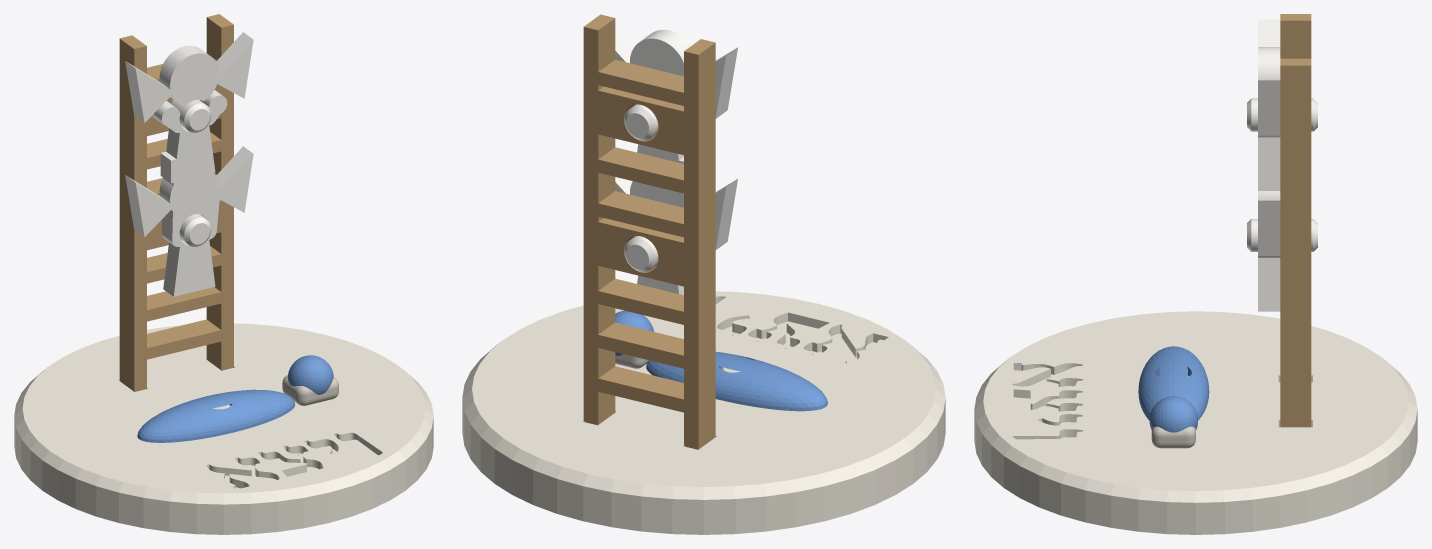
Rendered from vayetze.glb.
3 renders of one model, left to right at view 1: azimuth 30°, elevation 25°; view 2: azimuth 150°, elevation 25°; view 3: azimuth 270°, elevation 25°, orthographic. The views are drawn at different scales.
Visible parts, largest first — view 1: stage, ladder, angel-1, angel-2, yaakov, pin-2, stone, pin-1; view 2: stage, ladder, yaakov, angel-2, angel-1, pin-2, pin-1; view 3: stage, ladder, yaakov, angel-2, angel-1, stone, pin-2, pin-1.
Boxes of the visible parts, x1,y1,x2,y2 form: stage: (14, 323, 433, 534); ladder: (119, 14, 233, 391); angel-1: (125, 146, 253, 296); angel-2: (125, 32, 253, 182); yaakov: (137, 355, 333, 442); pin-2: (171, 99, 211, 132); stone: (282, 375, 338, 405); pin-1: (179, 214, 211, 246); stage: (462, 291, 945, 534); ladder: (583, 14, 715, 449); yaakov: (615, 310, 827, 411); angel-2: (601, 14, 737, 162); angel-1: (615, 157, 737, 295); pin-2: (624, 104, 658, 140); pin-1: (624, 236, 658, 271); stage: (974, 311, 1417, 534); ladder: (1280, 14, 1311, 427); yaakov: (1138, 346, 1209, 432); angel-2: (1258, 19, 1280, 190); angel-1: (1258, 191, 1280, 311); stone: (1151, 426, 1195, 448); pin-2: (1247, 98, 1317, 131); pin-1: (1247, 219, 1317, 251).
Bounding box in the file's own units: 40 × 40 × 40.
